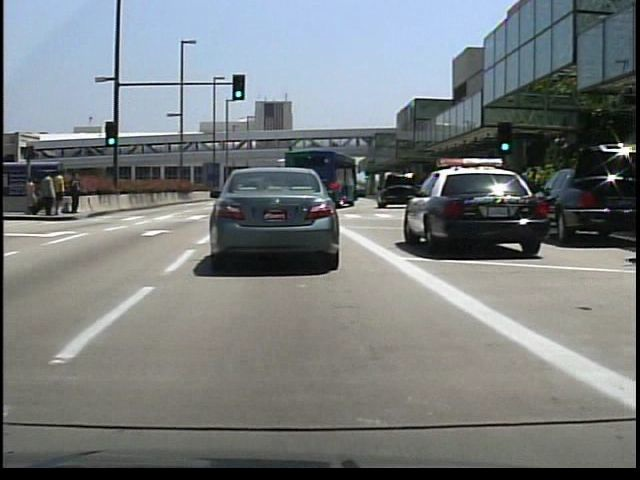person: (66, 170, 83, 217), (40, 171, 57, 216), (21, 173, 39, 214), (53, 170, 66, 218)
